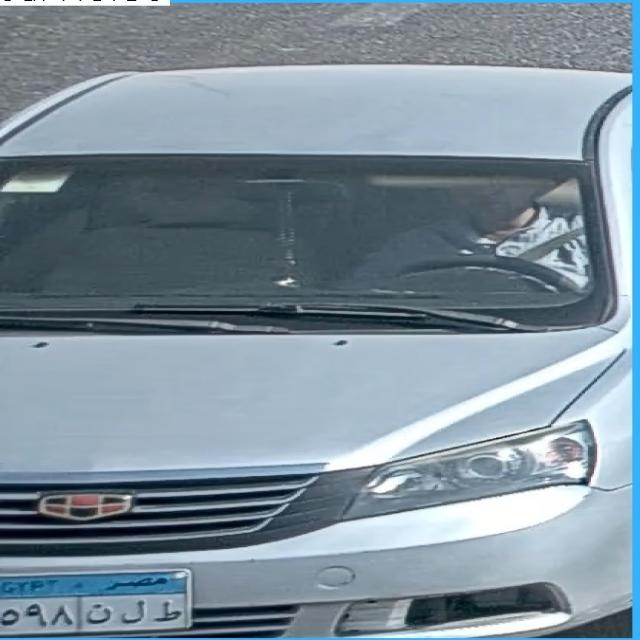windshield: (2, 156, 616, 328)
